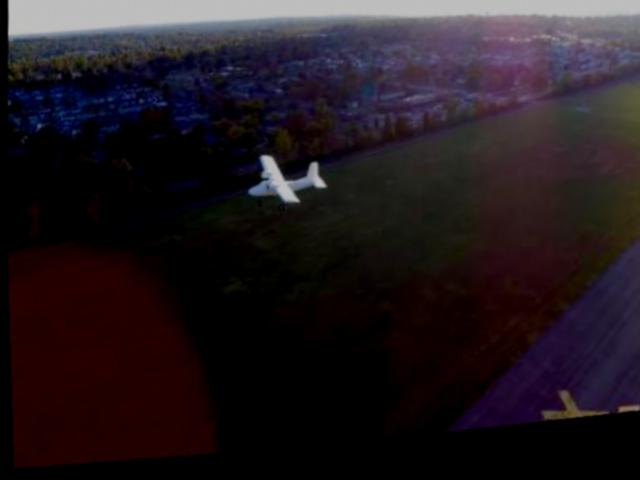uav: (244, 151, 328, 217)
